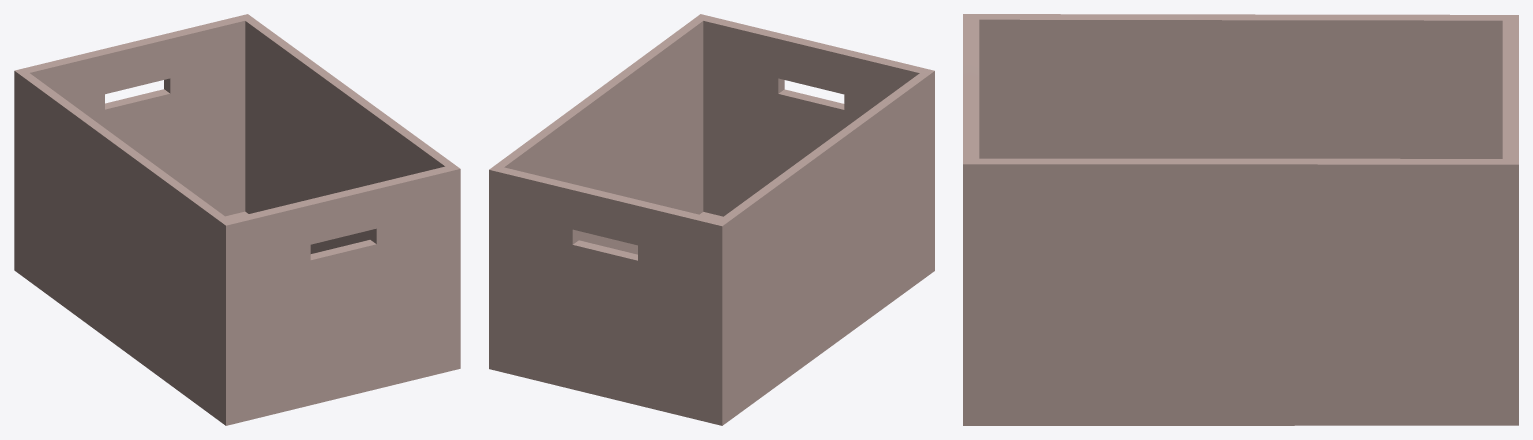
Rendered from warehouse_029.glb.
The picture shows the model from 3 angles, left to right: view 1: azimuth 30°, elevation 25°; view 2: azimuth 150°, elevation 25°; view 3: azimuth 270°, elevation 25°; orthographic projection. The views are drawn at different scales.
Visible parts, largest first — view 1: warehouse_029; view 2: warehouse_029; view 3: warehouse_029.
Part boxes in pixels (bbox=[...]): warehouse_029: bbox=[14, 14, 460, 425]; warehouse_029: bbox=[489, 14, 934, 425]; warehouse_029: bbox=[963, 14, 1518, 425].
Bounding box in the file's own units: 0.419 × 0.3418 × 0.6566.
Materials: 1 (1 with a texture image).
